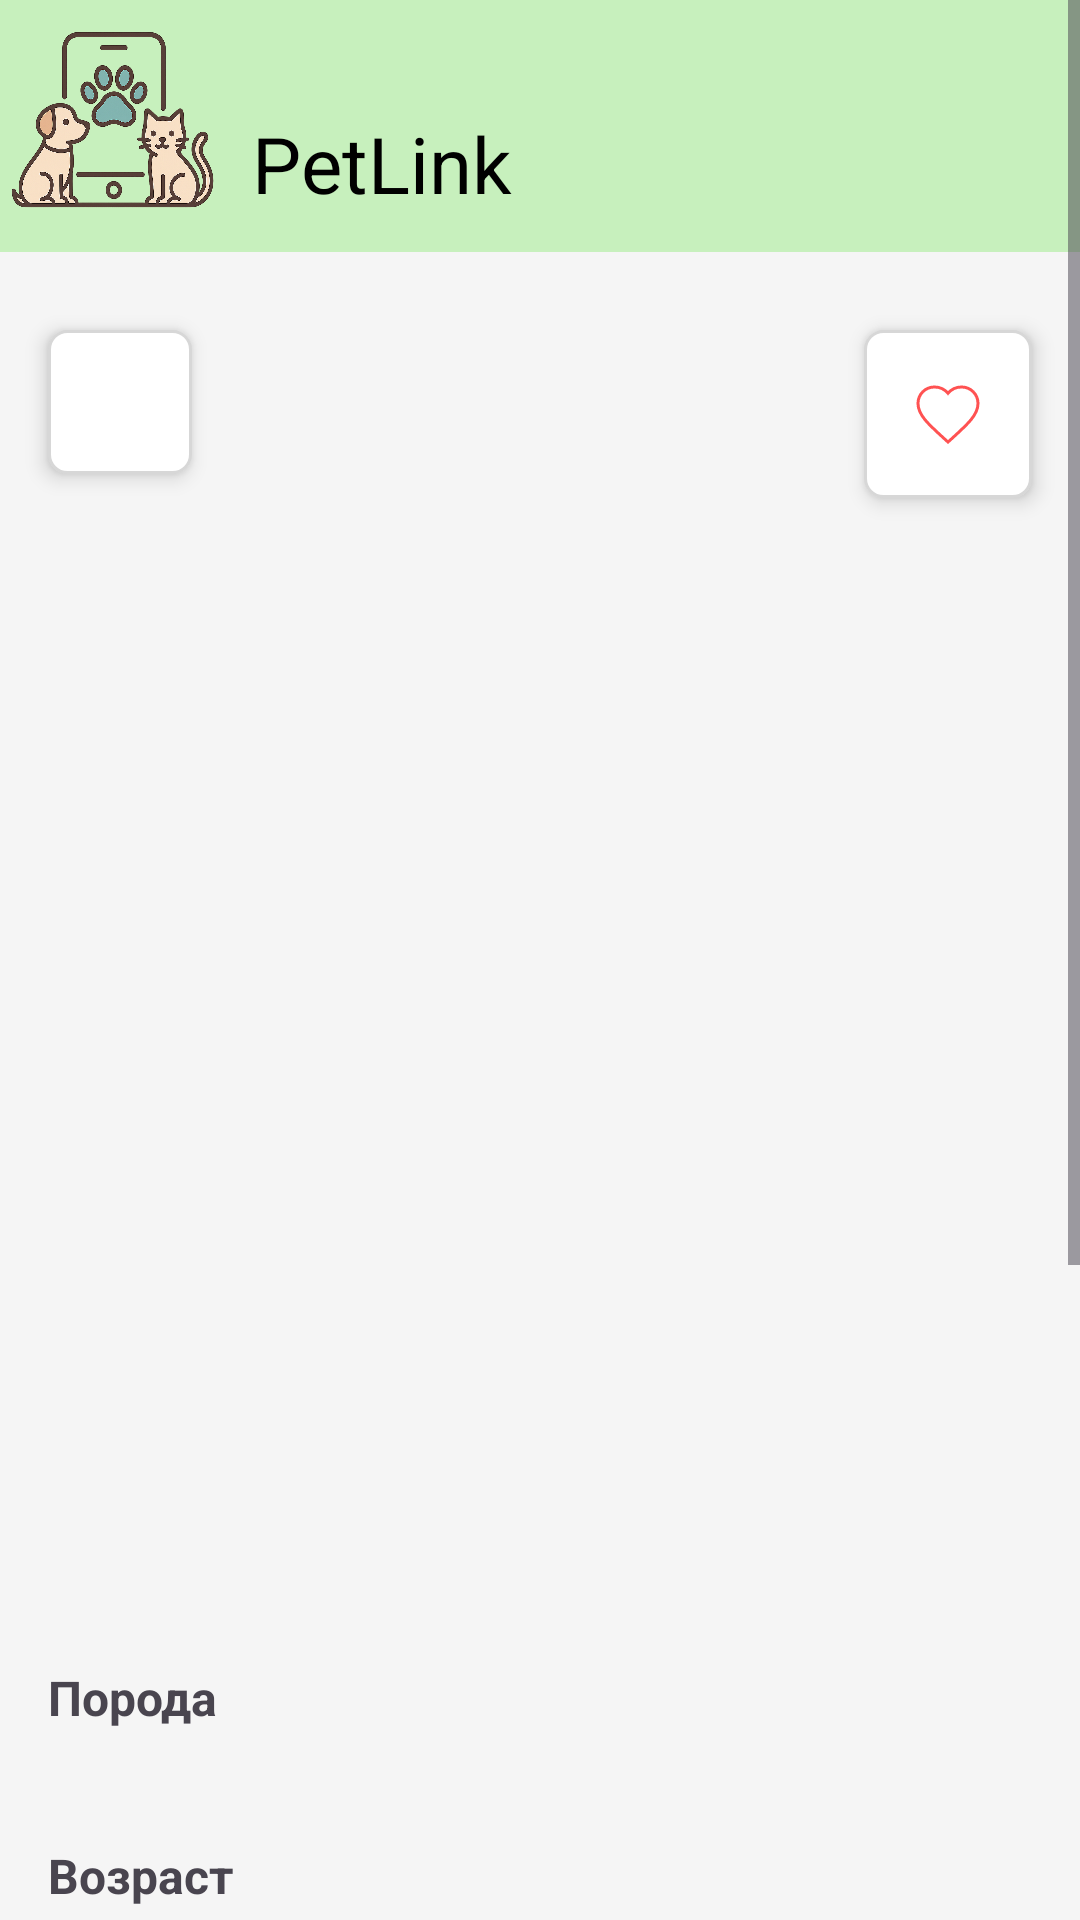

Where icons sit on this 1080 x 1920 app screen, as [left=x1, top=y1, right=x2, bottom=y2]:
heart: [left=867, top=333, right=1029, bottom=495]
